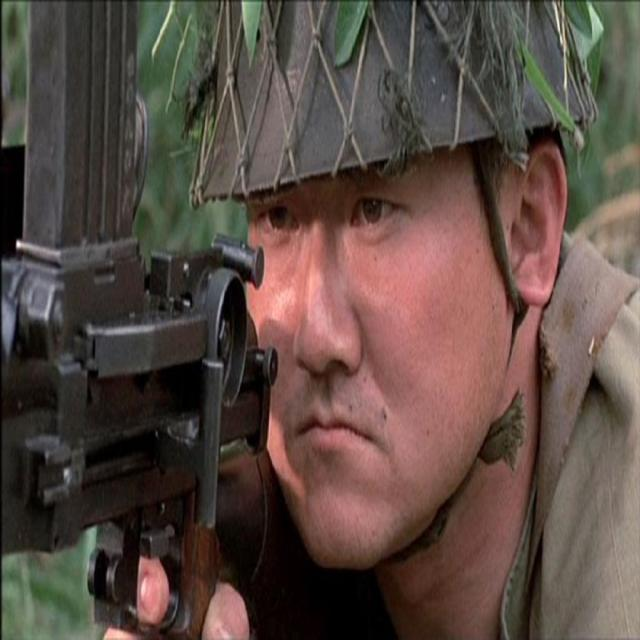Face: (251, 148, 540, 557)
